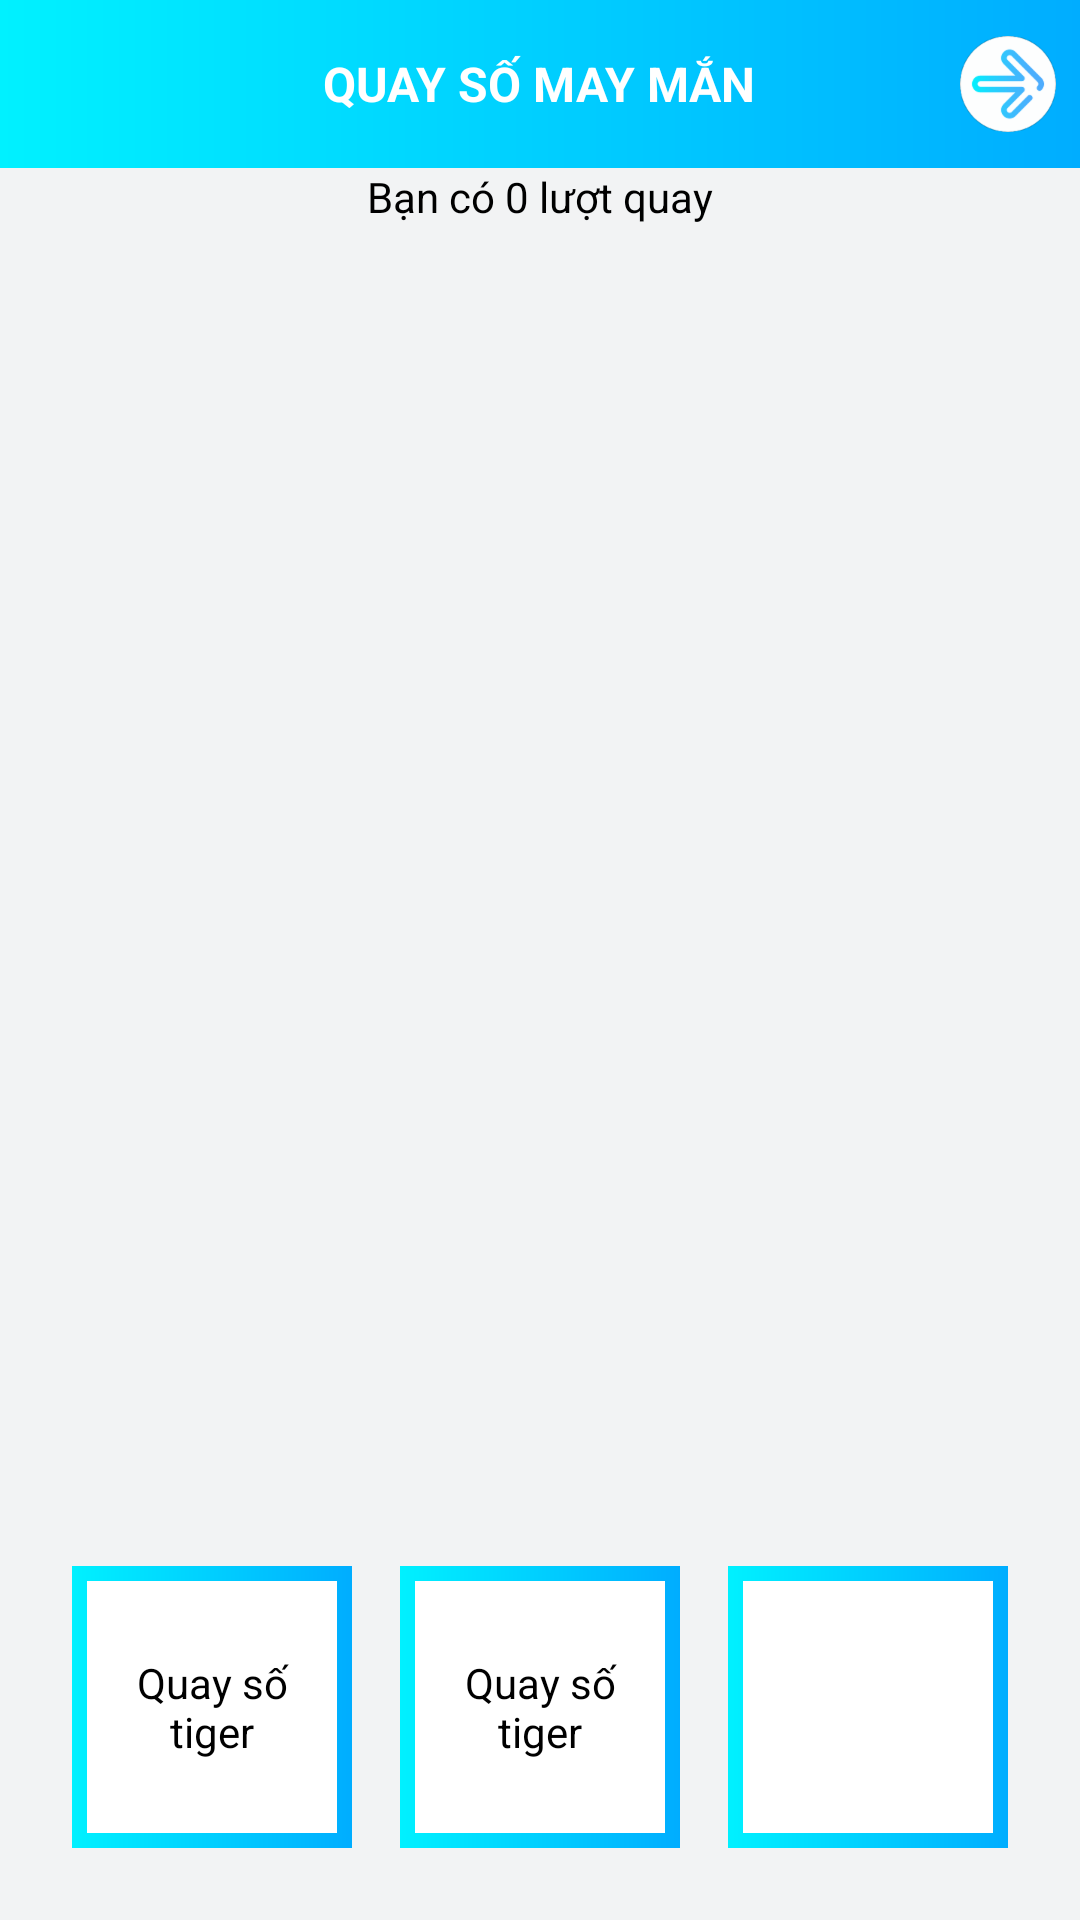

Screen size 1080 × 1920. Icon name, then its box in pixels as (x1, y1, x2, y2):
next: (960, 36, 1056, 132)
